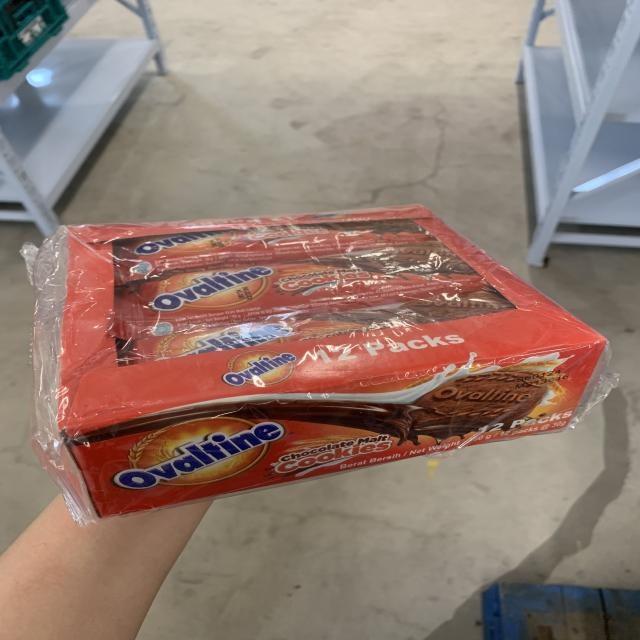object_name: (57, 225, 574, 508)
